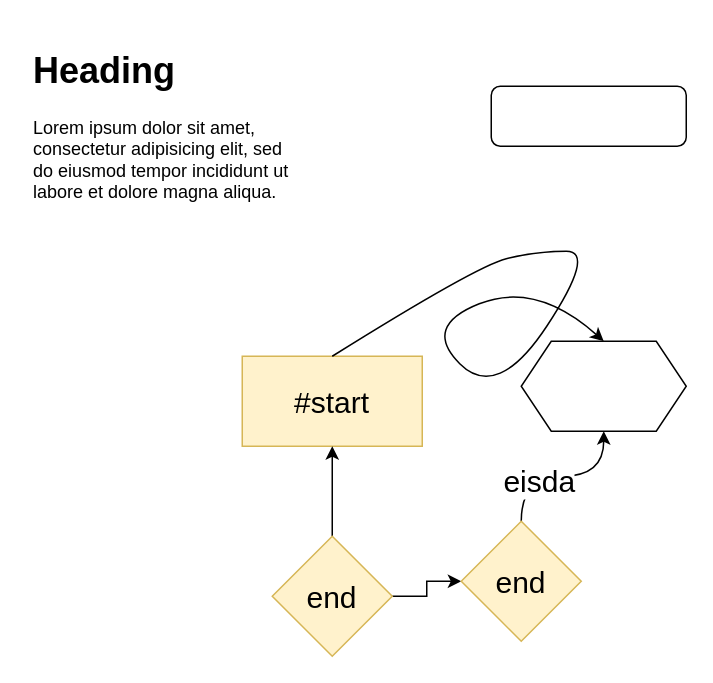
Image size: 713x683. Some labels were removed from this diagram. Each missing label, with the centre of its shape:
lsd: [603,385]
www.google.com: [588,115]
